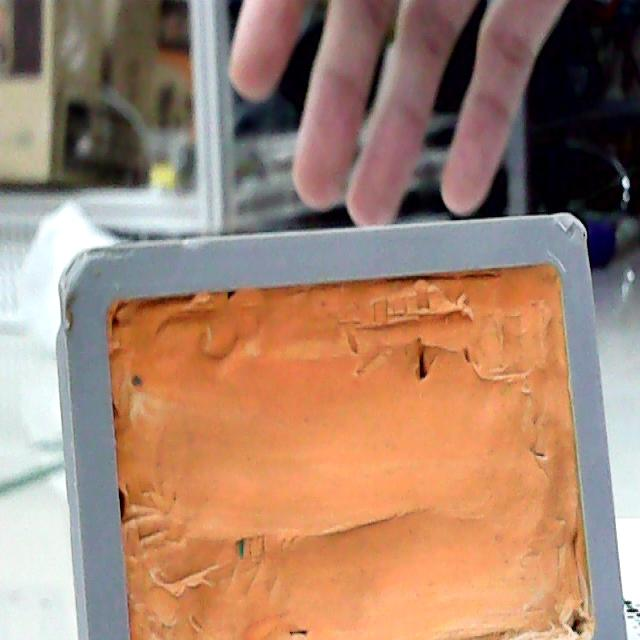block: (56, 218, 628, 640)
